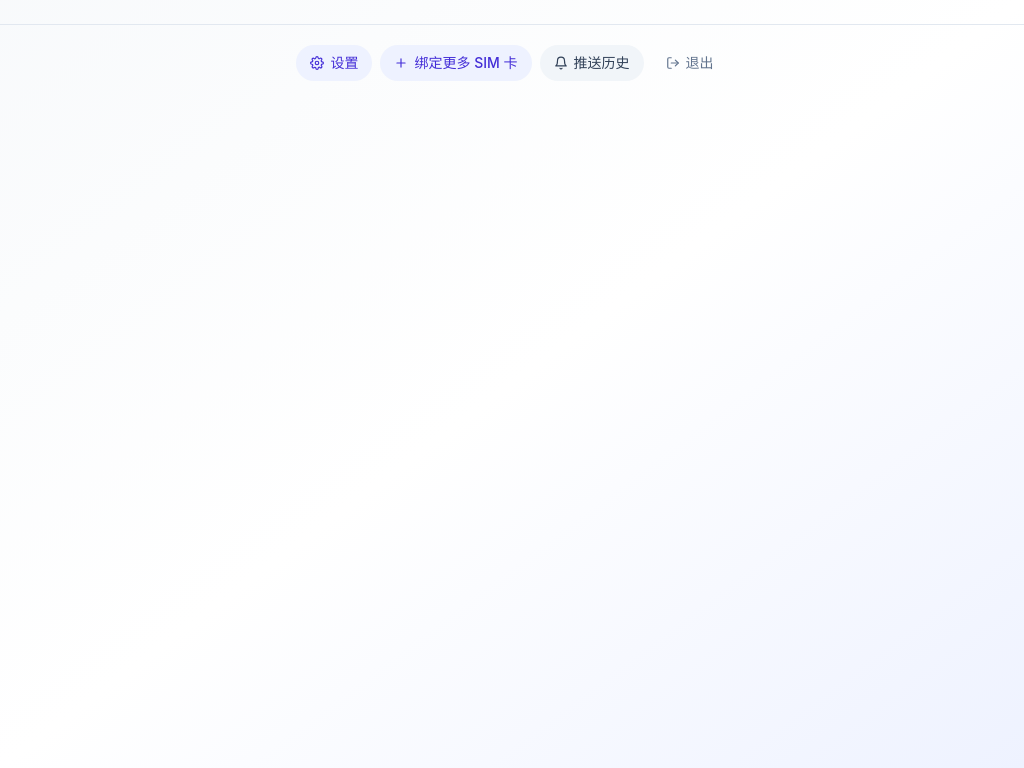
Test: <ActionBar /> › 退出失败时恢复按钮并显示可重试提示
Click the button "退出".
click(690, 63)  # box [652,45,728,81]
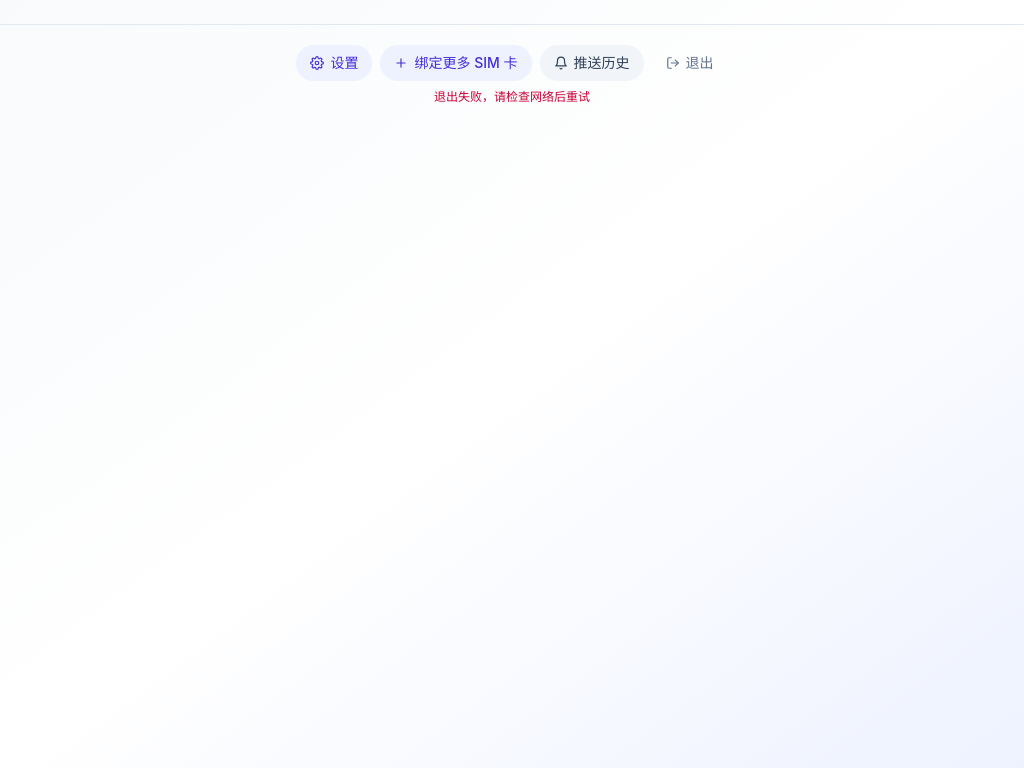
Check: the message shows "退出失败", box [434,89,590,104]
